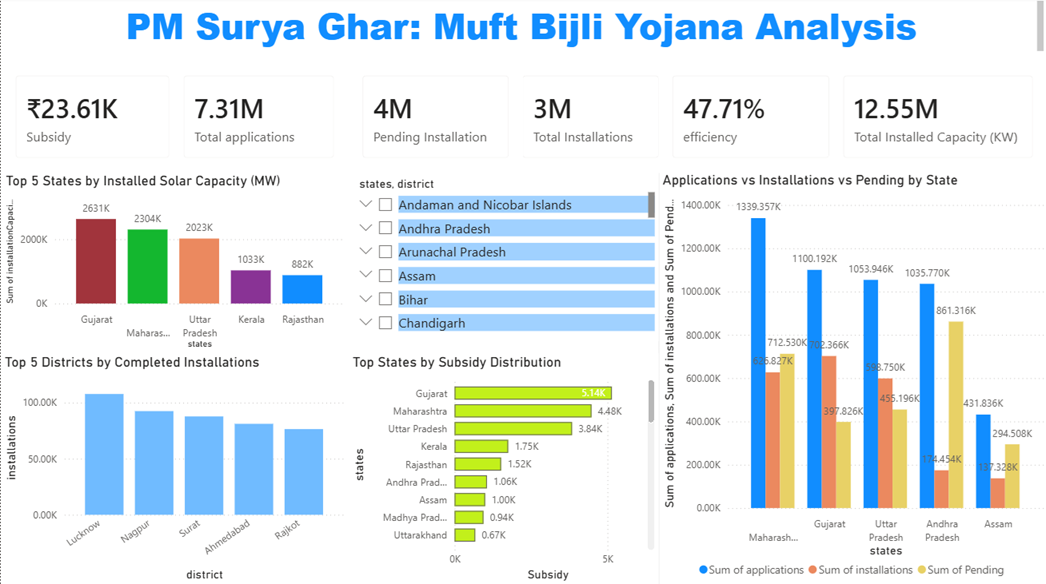

The page's visual inventory and layout, read from the dashboard file:
{"tool":"powerbi","page":{"name":"Page 1","canvas":[1280,720],"ordinal":0},"visuals":[{"type":"clusteredColumnChart","title":"Top 5 States by Installed Solar Capacity (MW)","fields":{"Category":["pm_surya_clean.states"],"Y":["Sum(pm_surya_clean.installationCapacity_KW)"]},"box":[1.2,207.9,414.5,228.7],"z":0},{"type":"clusteredColumnChart","title":"Applications vs Installations vs Pending by State","fields":{"Category":["pm_surya_clean.states"],"Y":["Sum(pm_surya_clean.applications)","Sum(pm_surya_clean.installations)","Sum(pm_surya_clean.Pending)"]},"box":[804.1,214.1,476.2,506.3],"z":1000},{"type":"barChart","title":"Top States by Subsidy Distribution","fields":{"Category":["pm_surya_clean.states"],"Y":["pm_surya_clean.Subsidy"]},"box":[355.4,436.4,448.7,284],"z":2000},{"type":"columnChart","title":"Top 5 Districts by Completed Installations","fields":{"Category":["pm_surya_clean.district"],"Y":["Sum(pm_surya_clean.installations)"]},"box":[0,436.6,355.8,283.7],"z":3000},{"type":"cardVisual","fields":{"Data":["Sum(pm_surya_clean.installations)"]},"box":[621.2,62.4,201.8,152.9],"z":4000},{"type":"cardVisual","fields":{"Data":["Sum(pm_surya_clean.applications)"]},"box":[207.2,61.7,218.2,153.7],"z":5000},{"type":"cardVisual","fields":{"Data":["pm_surya_clean.Subsidy"]},"box":[0,62.4,223.8,152.9],"z":6000},{"type":"cardVisual","fields":{"Data":["Sum(pm_surya_clean.Pending)"]},"box":[425.5,62.4,214,152.9],"z":7000},{"type":"cardVisual","fields":{"Data":["pm_surya_clean.efficiency"]},"box":[804.6,62.4,226.2,152.9],"z":8000},{"type":"cardVisual","fields":{"Data":["Sum(pm_surya_clean.installationCapacity_KW)"]},"box":[1014.1,61.7,266.2,153.7],"z":9000},{"type":"textbox","box":[18.3,0,1244.8,79.5],"z":10000},{"type":"slicer","fields":{"Values":["pm_surya_clean.states","pm_surya_clean.district"]},"box":[425.5,215.2,297.1,206.7],"z":11000}]}

Visuals, with their boxes in screenshot pixels (x1, y1, x2, y2), scaled from the page's 1280x720 canvas onto the 1046x584 screenshot:
"Top 5 States by Installed Solar Capacity (MW)" clusteredColumnChart: l=1, t=169, r=340, b=354
"Applications vs Installations vs Pending by State" clusteredColumnChart: l=657, t=174, r=1045, b=583
"Top States by Subsidy Distribution" barChart: l=290, t=354, r=657, b=583
"Top 5 Districts by Completed Installations" columnChart: l=0, t=354, r=291, b=583
cardVisual - Sum(pm_surya_clean.installations): l=508, t=51, r=673, b=175
cardVisual - Sum(pm_surya_clean.applications): l=169, t=50, r=348, b=175
cardVisual - pm_surya_clean.Subsidy: l=0, t=51, r=183, b=175
cardVisual - Sum(pm_surya_clean.Pending): l=348, t=51, r=523, b=175
cardVisual - pm_surya_clean.efficiency: l=658, t=51, r=842, b=175
cardVisual - Sum(pm_surya_clean.installationCapacity_KW): l=829, t=50, r=1045, b=175
textbox: l=15, t=0, r=1032, b=64
slicer - pm_surya_clean.states x pm_surya_clean.district: l=348, t=175, r=590, b=342
